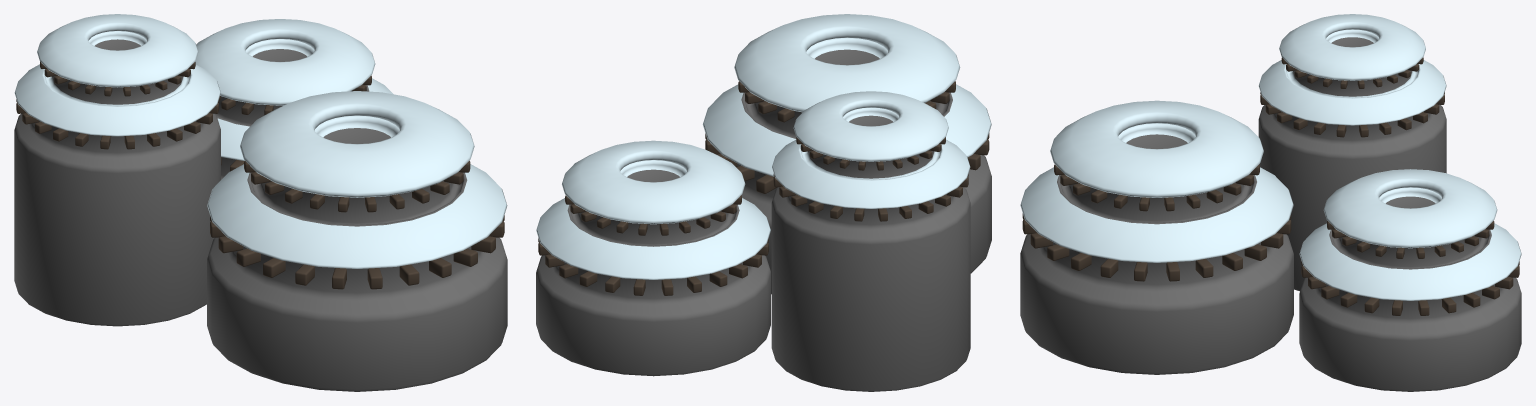
File: Estructura(Todo).fbx
3 renders of one model, left to right at view 1: azimuth 30°, elevation 25°; view 2: azimuth 150°, elevation 25°; view 3: azimuth 270°, elevation 25°, orthographic. The views are drawn at different scales.
Parts seen in each view (by area): view 1: Choza, ChozaDetalle.002, Choza.001; view 2: ChozaDetalle.002, Choza.001, Choza; view 3: Choza, Choza.001, ChozaDetalle.002.
Part boxes in pixels (box(x1,y1,x2,y2)): Choza: box(207, 91, 507, 391); ChozaDetalle.002: box(14, 14, 220, 326); Choza.001: box(195, 19, 393, 179); ChozaDetalle.002: box(771, 91, 970, 391); Choza.001: box(536, 140, 770, 376); Choza: box(702, 14, 991, 294); Choza: box(1020, 100, 1293, 374); Choza.001: box(1299, 169, 1521, 391); ChozaDetalle.002: box(1258, 14, 1446, 291).
Size of the model in its own units: 346 by 172 by 283.
